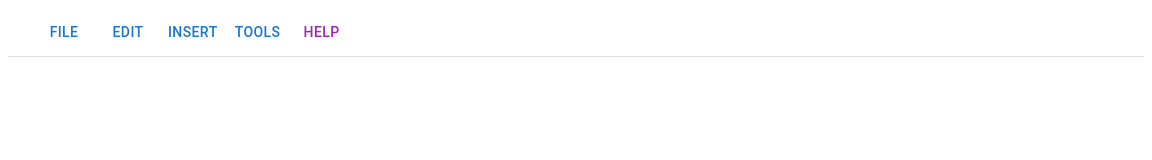
Test: shows warning for insert menu if no item selected
Click the button "Insert" at (193, 32), box [160, 14, 226, 50]
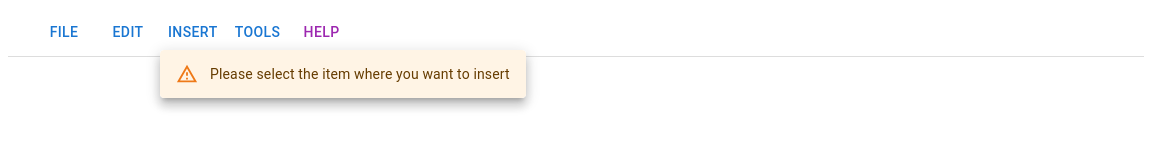
Check: the element with test id "insertWarning" shows "Please select", box [210, 66, 510, 82]
